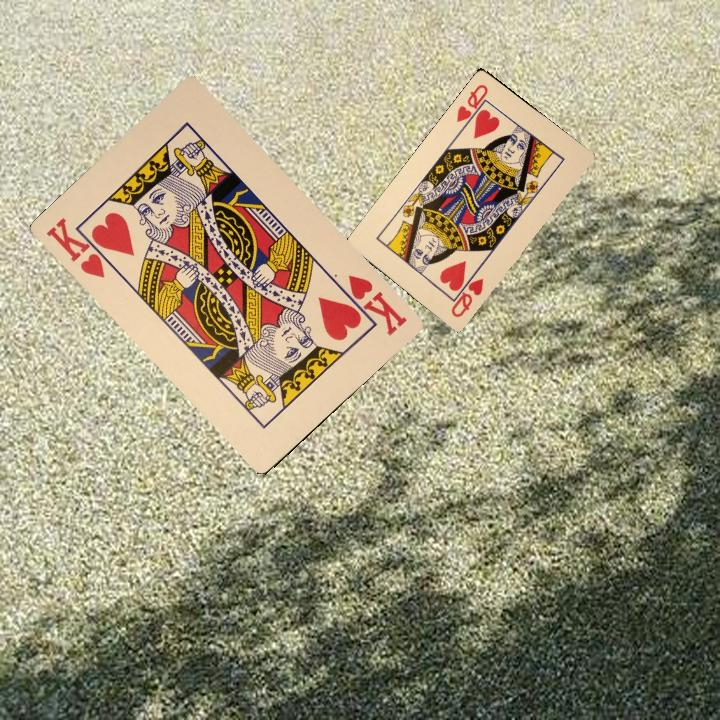Kh: (333, 270, 410, 339), (42, 213, 118, 281)
Qh: (447, 268, 486, 320), (452, 80, 491, 130)
